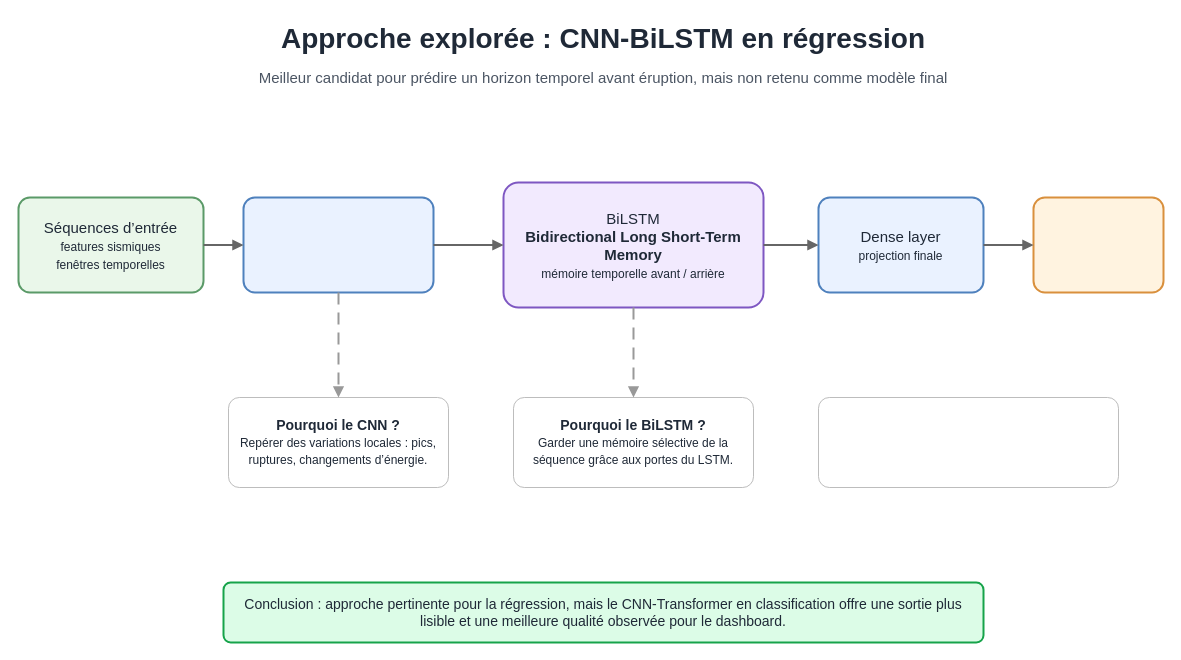
This 1181x660 diagram has some shape labels left out. The shapes that lost their labels are listed below. From the top down, each one's centre as x and y in pixels, then its label:
At (338,244): "CNN extrait des motifs locaux dans le signal".
At (1098,244): "Sortie régression heures avant éruption".
At (968,442): "Limite finale Une durée prédite reste moins exploitable qu’un niveau d’alerte.".
